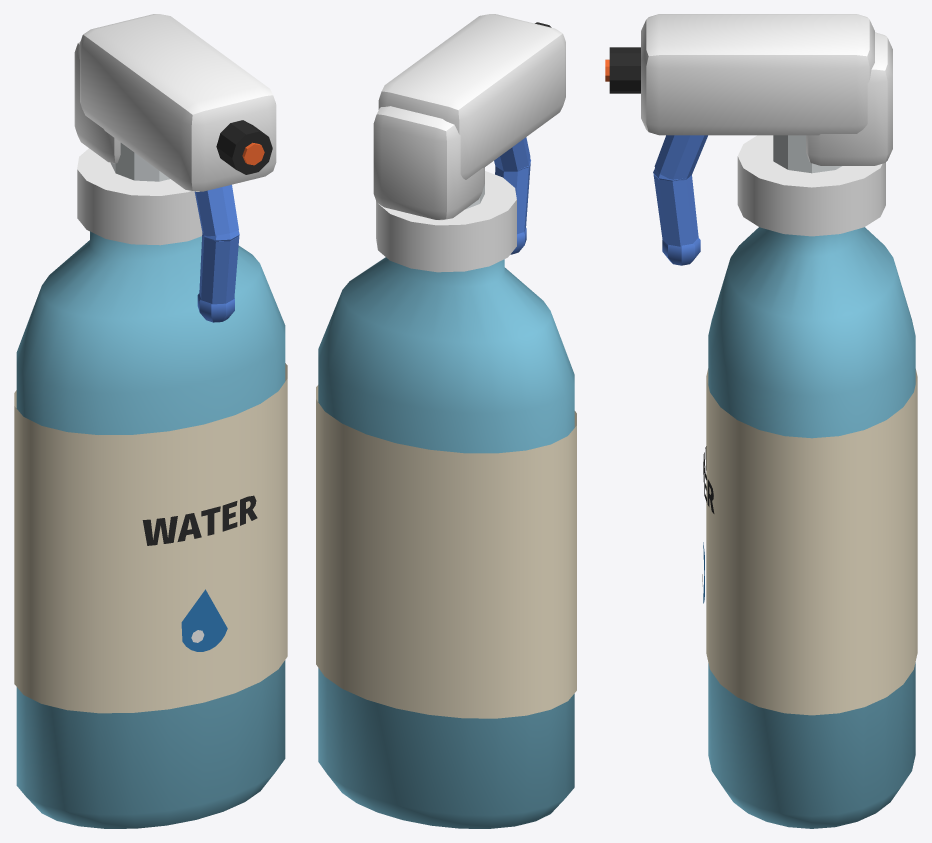
The model's file is spray_bottle.fbx.
3 views of the same model, side by side, from view 1: azimuth 30°, elevation 25°; view 2: azimuth 150°, elevation 25°; view 3: azimuth 270°, elevation 25° (orthographic). The views are drawn at different scales.
Visible parts, largest first — view 1: Label, Bottle, Sprayer; view 2: Label, Bottle, Sprayer; view 3: Bottle, Label, Sprayer.
Part boxes in pixels (x1=…): Label: x1=14, y1=363, x2=287, y2=713; Bottle: x1=16, y1=231, x2=285, y2=828; Sprayer: x1=74, y1=14, x2=276, y2=322; Label: x1=316, y1=385, x2=576, y2=718; Bottle: x1=318, y1=257, x2=574, y2=828; Sprayer: x1=373, y1=14, x2=565, y2=272; Bottle: x1=708, y1=227, x2=915, y2=828; Label: x1=702, y1=368, x2=917, y2=715; Sprayer: x1=605, y1=14, x2=892, y2=265.
Bounding box in the file's own units: 0.0652 × 0.183 × 0.0694.
1 material, 1 textured.
